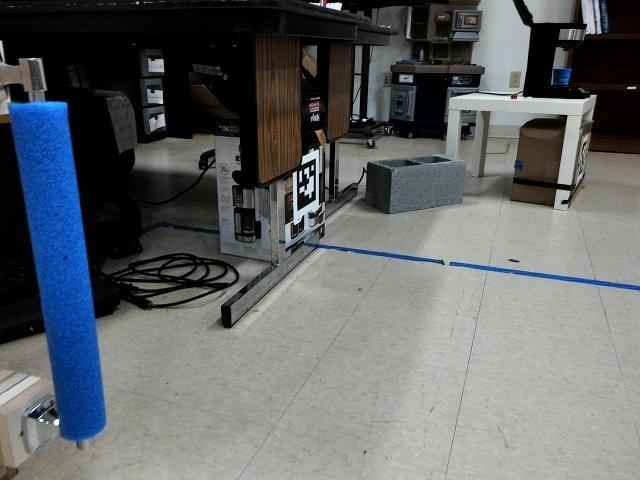noodle_handle: (8, 58, 119, 443)
